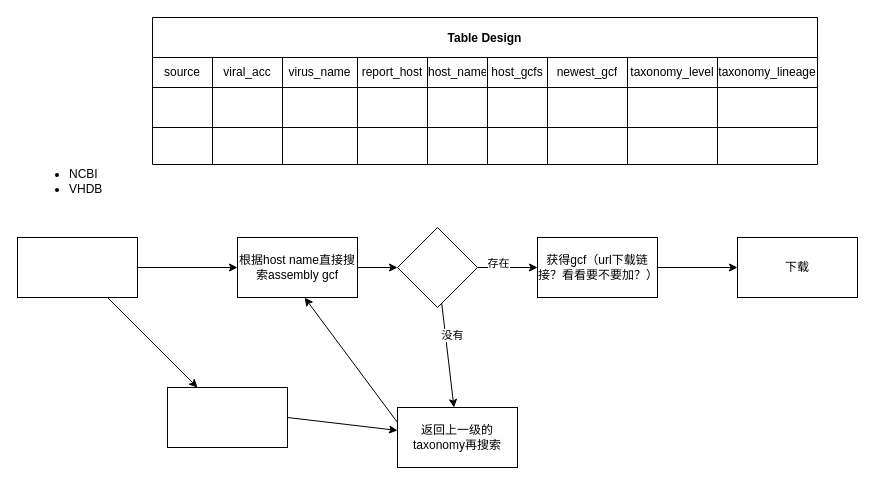
Some shapes in this 875 by 485 pixel diagram are drawn without their labels. Here are the shapes that lost their labels. From the top down, the centre of each, then its label:
At point (77, 267): "得到phage和host name".
At point (437, 267): "判断有无".
At point (227, 417): "根据host name获得taxid，taxonomy level".
